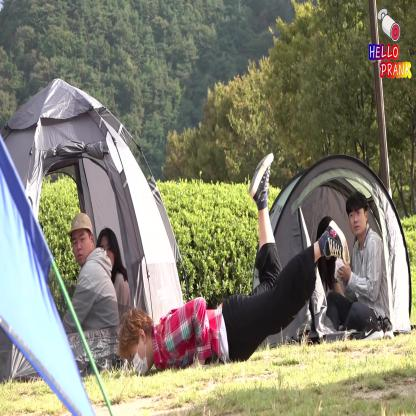Fall_Down: (120, 149, 352, 377)
